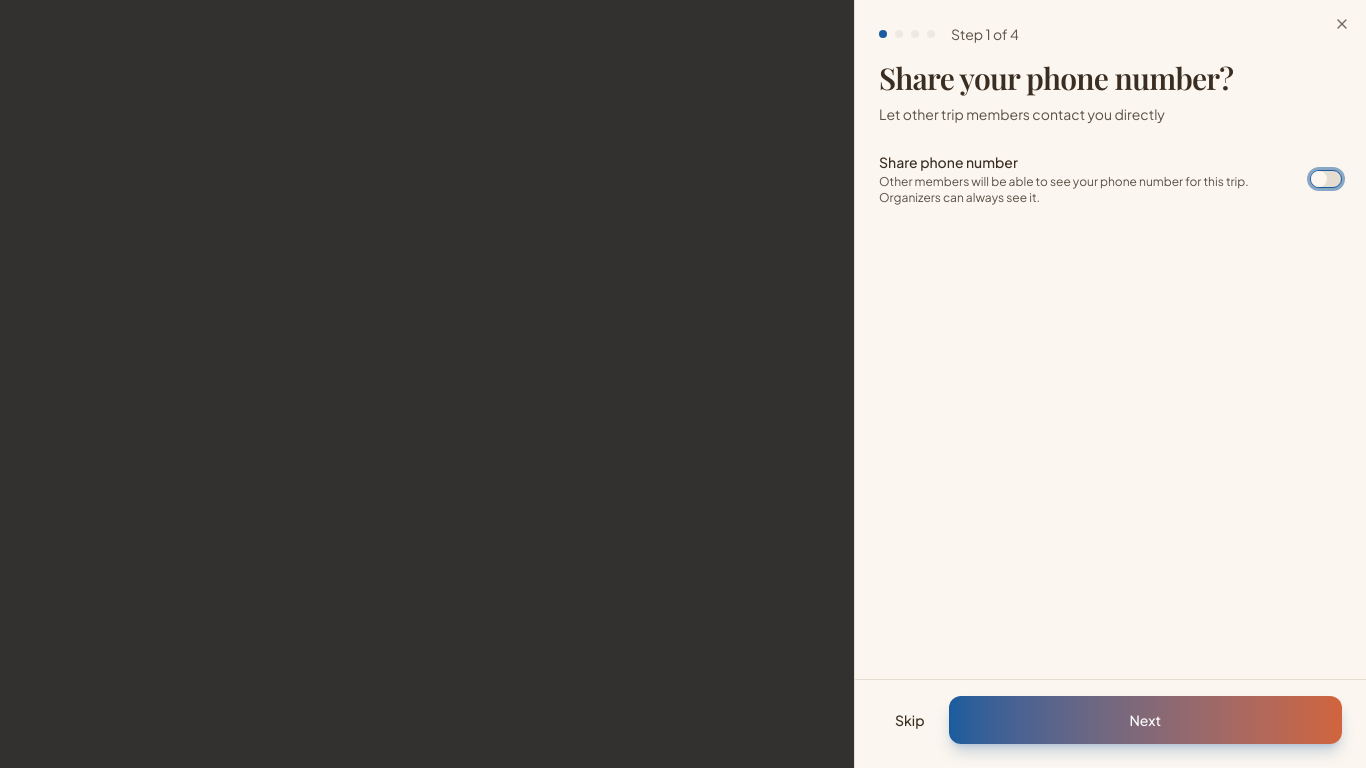
Test: MemberOnboardingWizard › Events step conditionally rendered › skips events step when allowMembersToAddEvents is false and not organizer
Expected: the text "Step 1 of 4" is shown, [951,24,1019,44]
// Skip step 0 (phone sharing)
Click the button "Skip" at (910,720), box [879,696,940,744]
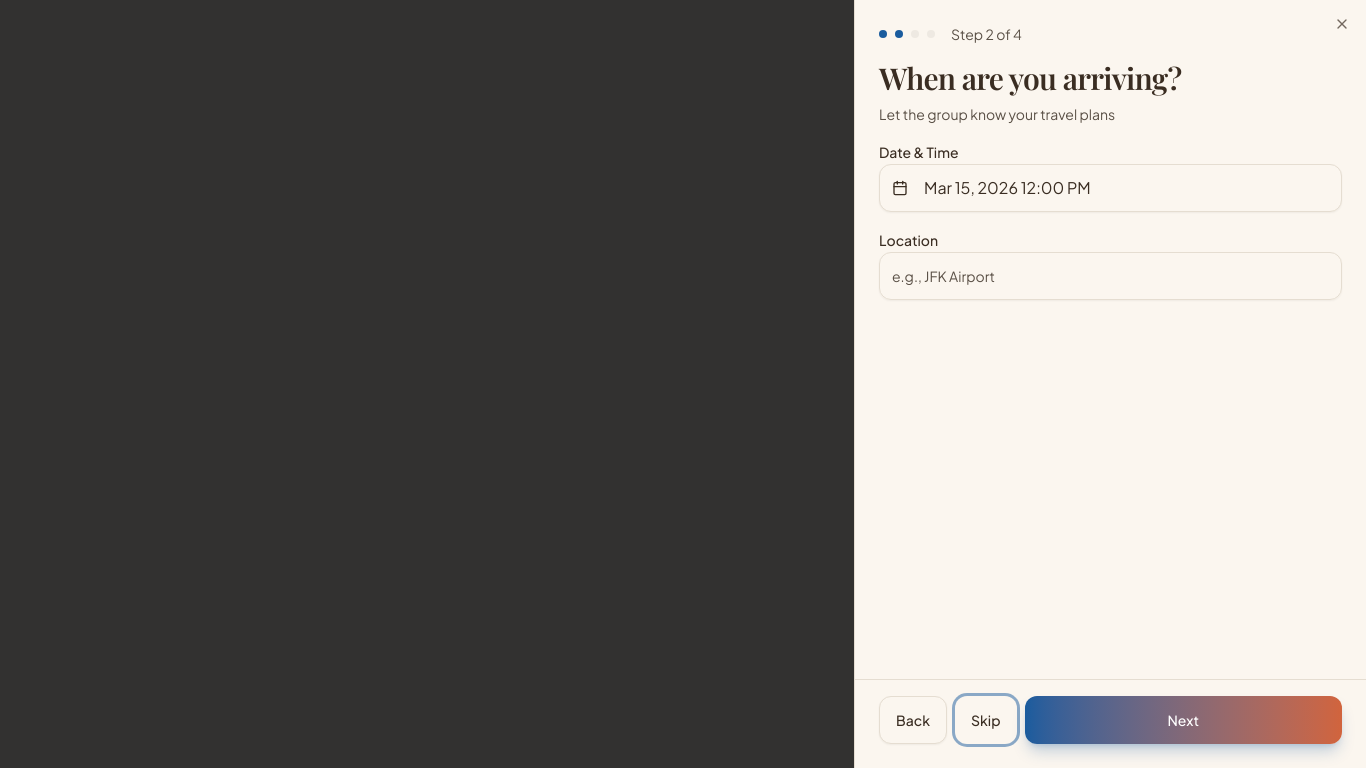
Expected: the heading "When are you arriving?" is shown, [879,58,1181,98]
// Skip step 1 (arrival)
Click the button "Skip" at (986,720), box [955,696,1016,744]
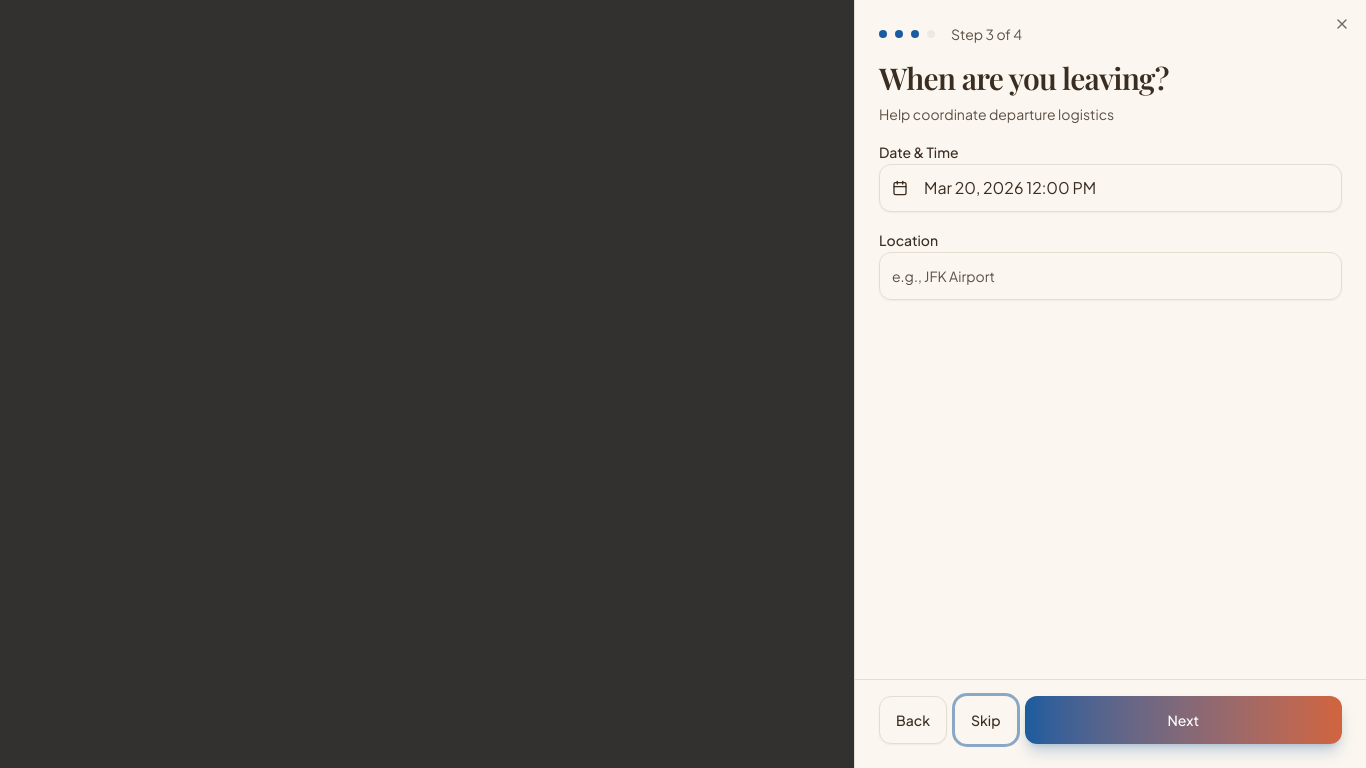
Expected: the heading "When are you leaving?" is shown, [879,58,1169,98]
// Skip step 2 (departure)
Click the button "Skip" at (986,720), box [955,696,1016,744]
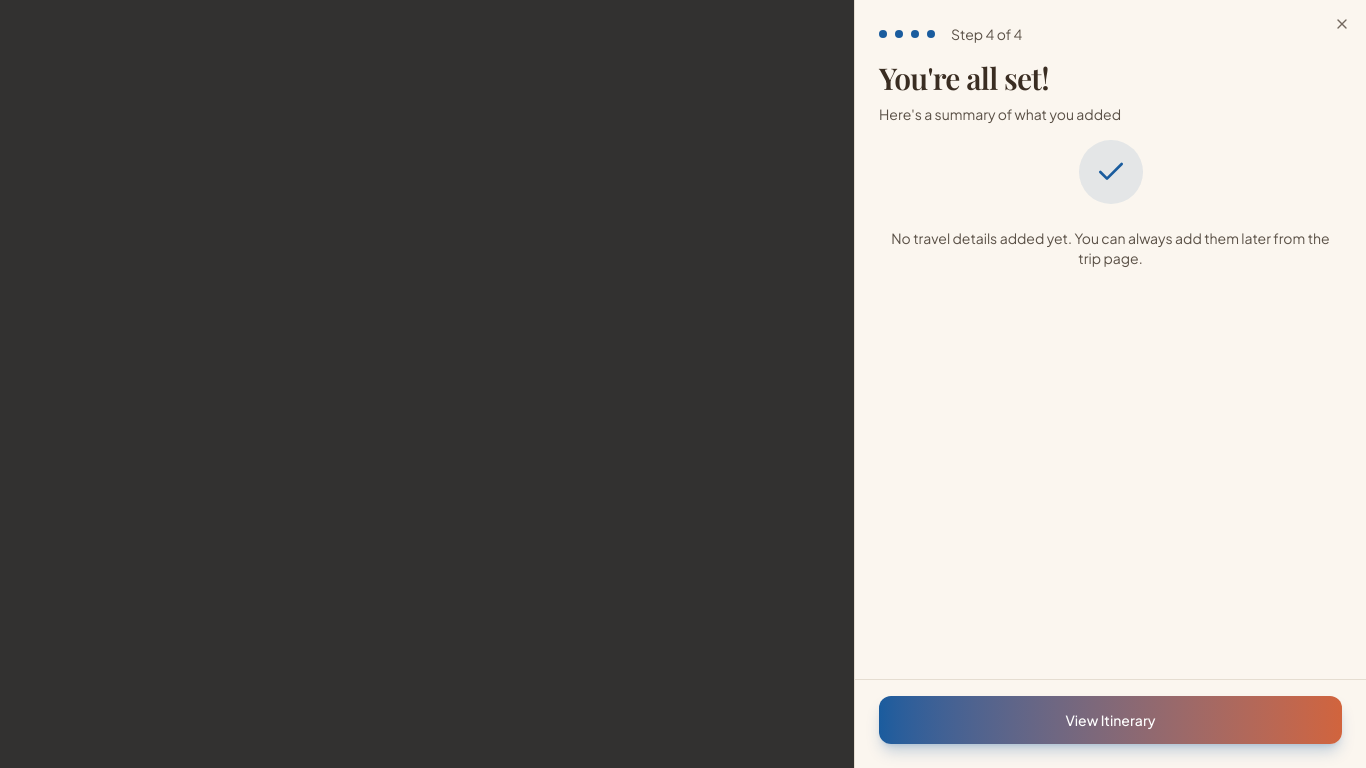
Expected: the heading "You're all set!" is shown, [879,58,1049,98]
